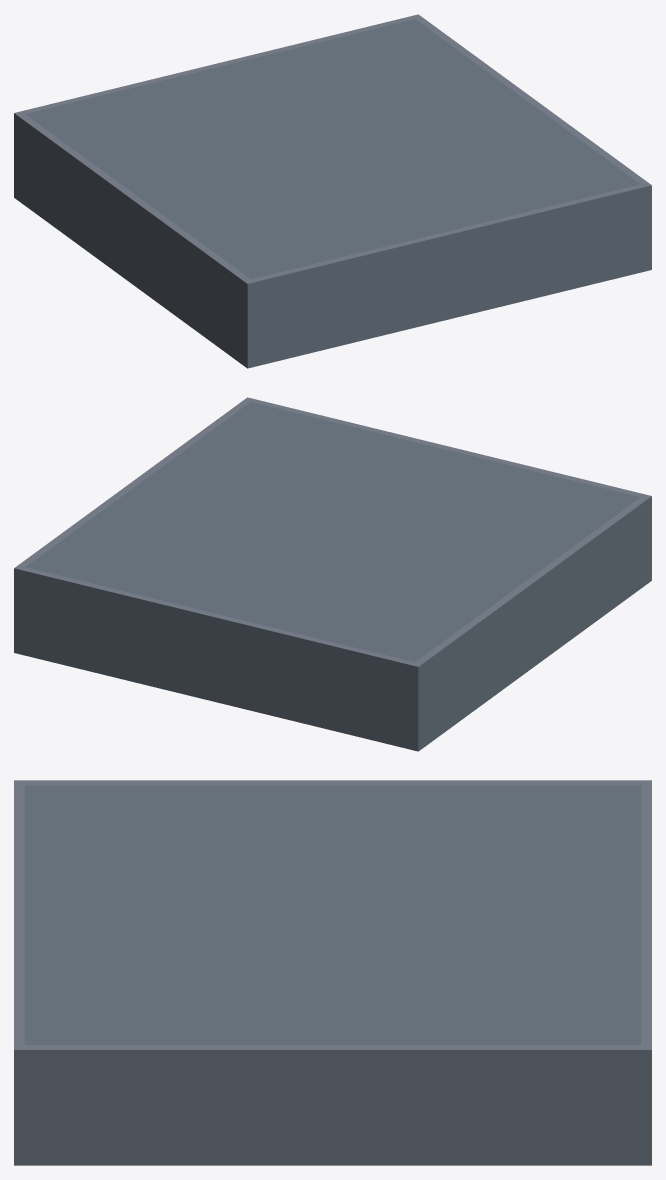
The model's file is ConcrateSlabs_D_4_1.glb.
The picture shows the model from 3 angles, top to bottom: view 1: azimuth 30°, elevation 25°; view 2: azimuth 150°, elevation 25°; view 3: azimuth 270°, elevation 25°; orthographic projection. The views are drawn at different scales.
Visible parts, largest first — view 1: ConcrateSlabs_D_4_1; view 2: ConcrateSlabs_D_4_1; view 3: ConcrateSlabs_D_4_1.
Boxes of the visible parts, x1,y1,x2,y2 form: ConcrateSlabs_D_4_1: (14, 14, 651, 368); ConcrateSlabs_D_4_1: (14, 397, 651, 751); ConcrateSlabs_D_4_1: (14, 780, 651, 1165).
Bounding box in the file's own units: 2 × 0.4 × 2.
Materials: 1 (1 with a texture image).
